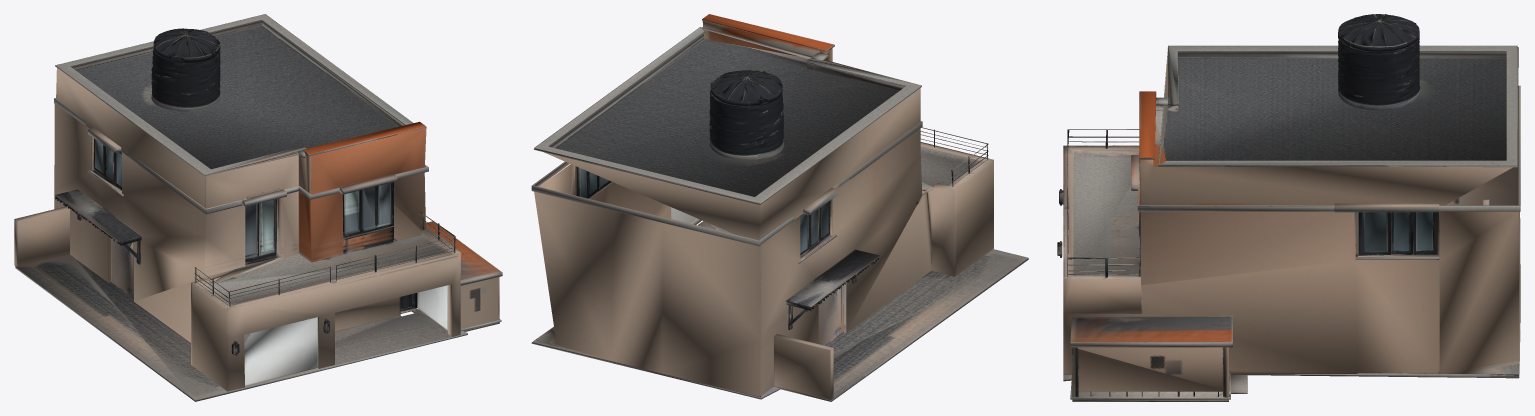
The model's file is cochera.glb.
3 renders of one model, left to right at view 1: azimuth 30°, elevation 25°; view 2: azimuth 150°, elevation 25°; view 3: azimuth 270°, elevation 25°, orthographic. The views are drawn at different scales.
Bounding box in the file's own units: 0.8599 × 0.6318 × 0.9521.
Materials: 1 (1 with a texture image).
